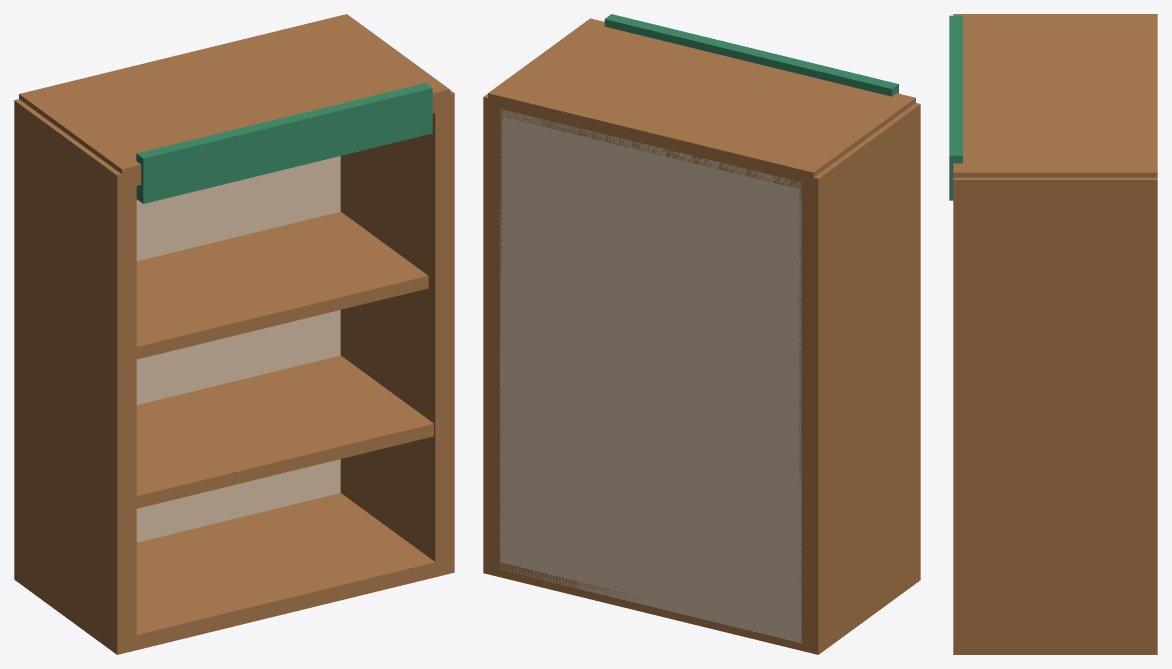
The model's file is market_pantry.glb.
The picture shows the model from 3 angles, left to right: view 1: azimuth 30°, elevation 25°; view 2: azimuth 150°, elevation 25°; view 3: azimuth 270°, elevation 25°; orthographic projection.
Visible parts, largest first — view 1: MarketPantry; view 2: MarketPantry; view 3: MarketPantry.
Part boxes in pixels (<box>): MarketPantry: <box>14,14,454,654</box>; MarketPantry: <box>483,14,920,654</box>; MarketPantry: <box>949,14,1157,654</box>.
Size of the model in its own units: 1.4 by 1.95 by 0.755.
